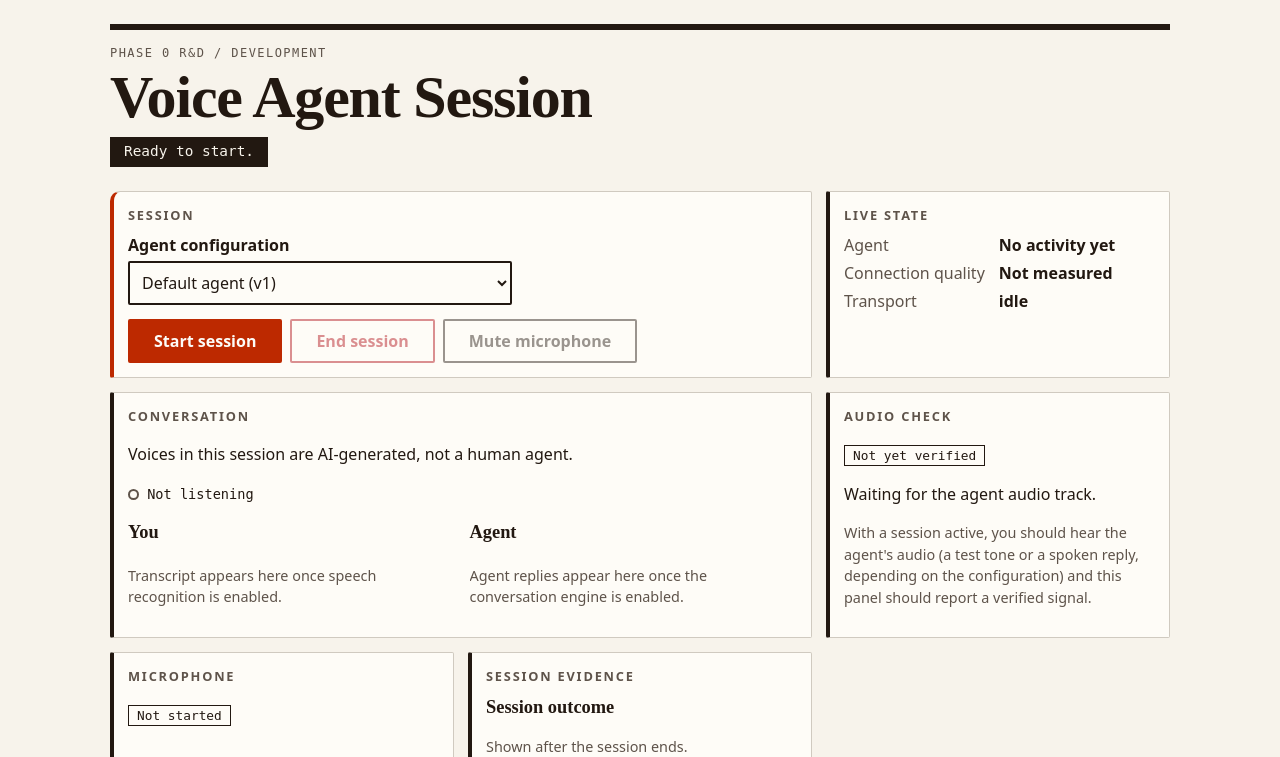
Test: conversation engine summary › shows a neutral not-available state when no conversation operations have been recorded yet
What coordinates should you click on to do the following:
click the button "Start session"
I would click on:
 (205, 341)
Its box is [128,319,282,363].
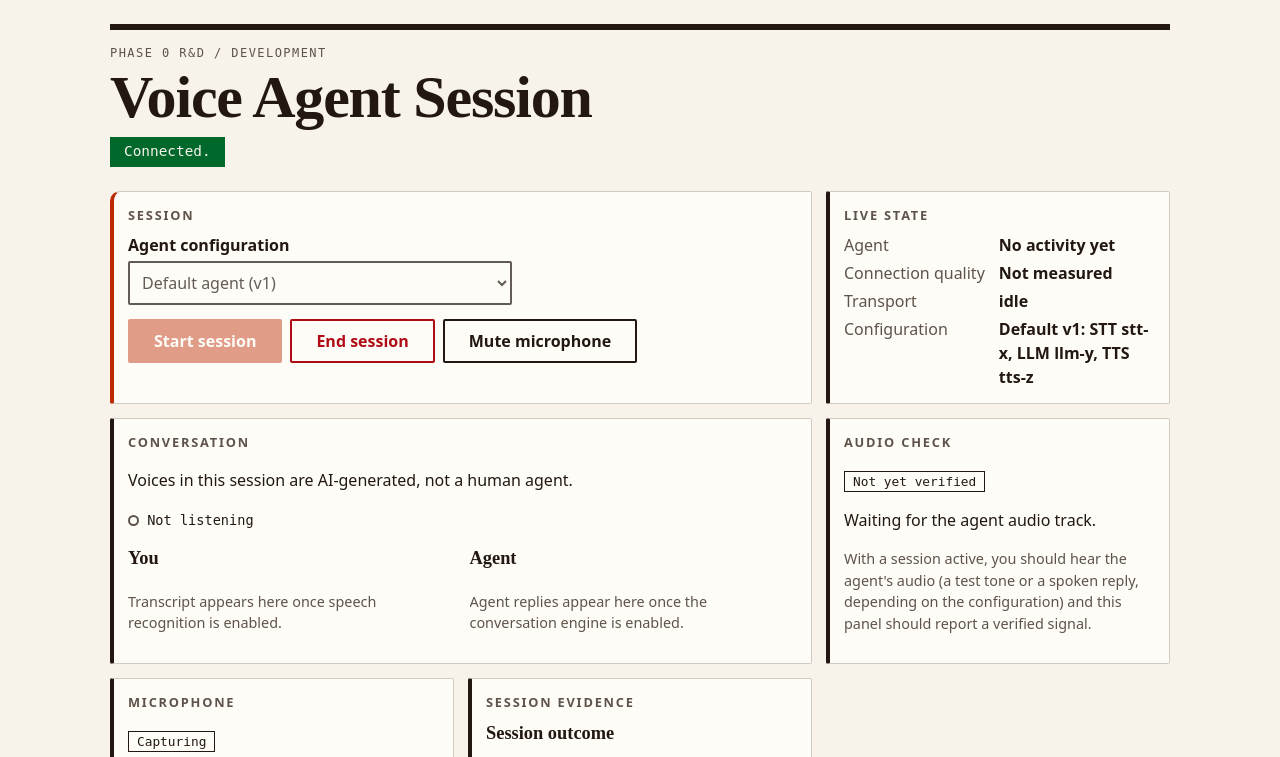
expect the message "Connected." is shown: met, box [110,137,225,167]
What coordinates should you click on to do the following:
click the button "End session"
I would click on:
 (363, 341)
Its box is [290,319,435,363].
(page scrolled)
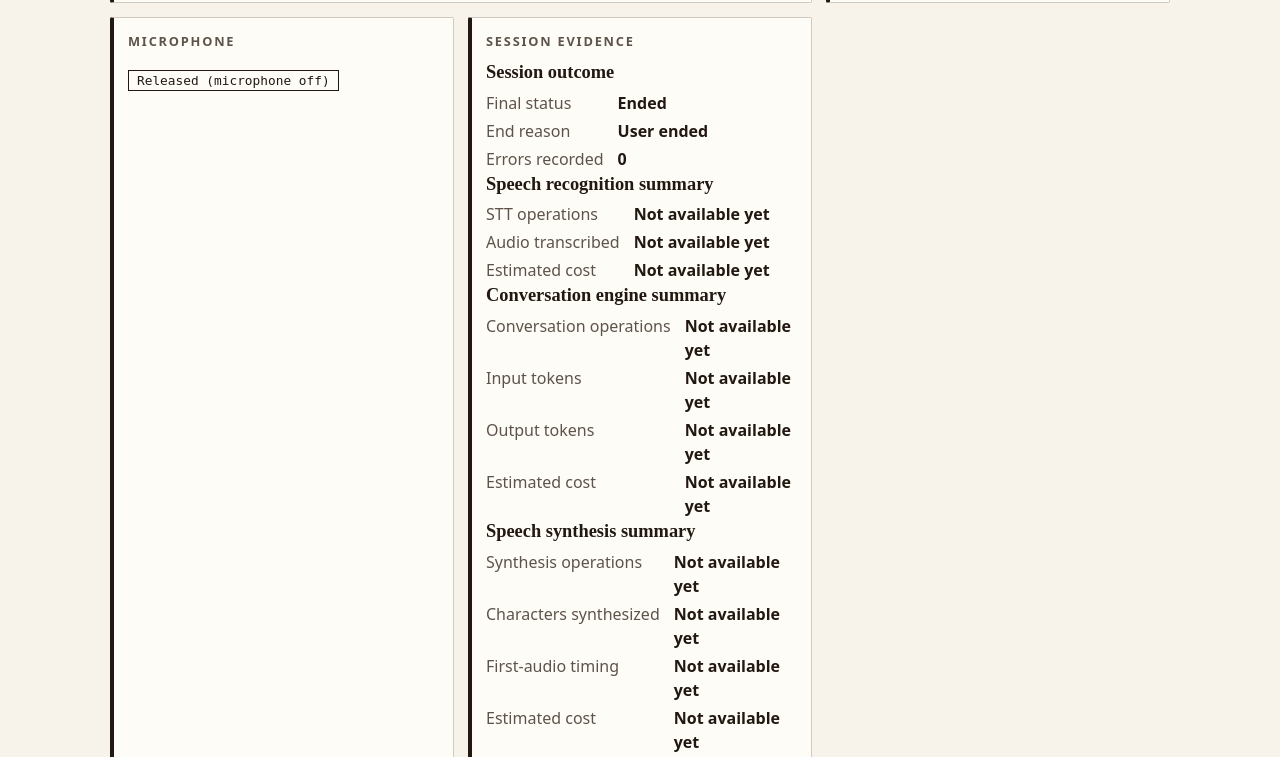
expect the element "Conversation engine summary" shows "Not available yet": met, box [685,315,791,361]
